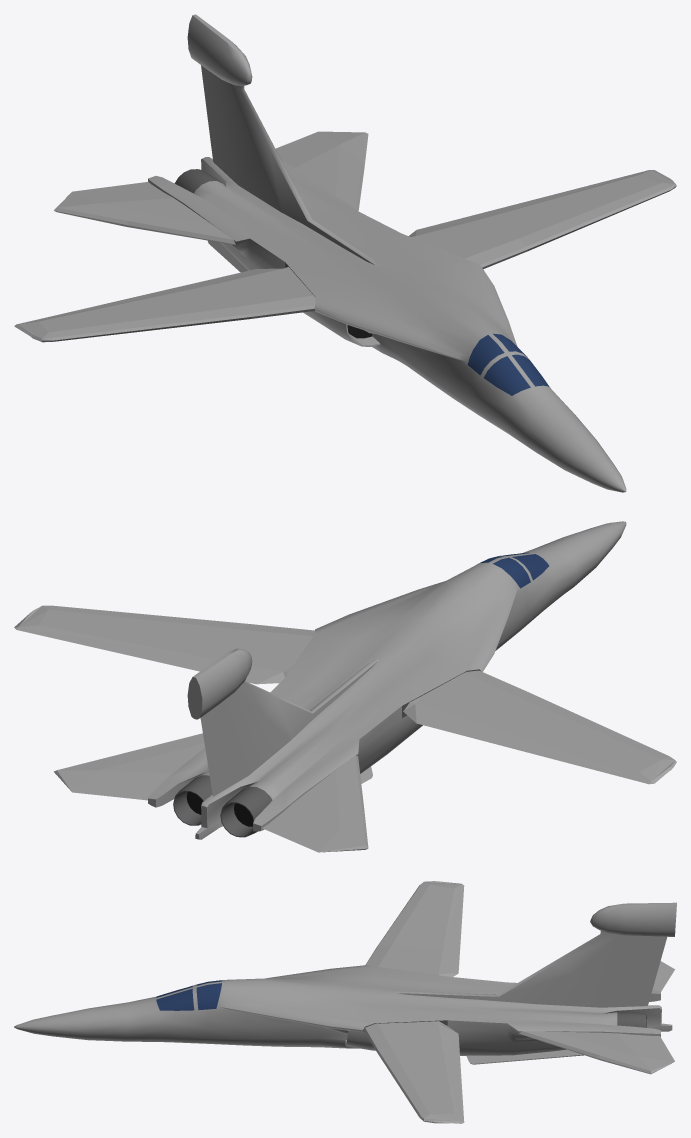
Rendered from EF_111_RAVEN.glb.
The picture shows the model from 3 angles, top to bottom: view 1: azimuth 30°, elevation 25°; view 2: azimuth 150°, elevation 25°; view 3: azimuth 270°, elevation 25°; orthographic projection. The views are drawn at different scales.
Parts seen in each view (by area): view 1: ef_111_raven_fuselage; view 2: ef_111_raven_fuselage; view 3: ef_111_raven_fuselage.
Part boxes in pixels (x1,y1,x2,y2): ef_111_raven_fuselage: [14, 14, 676, 492]; ef_111_raven_fuselage: [14, 521, 676, 852]; ef_111_raven_fuselage: [14, 881, 676, 1123].
Bounding box in the file's own units: 20.07 × 5.7 × 23.4.
